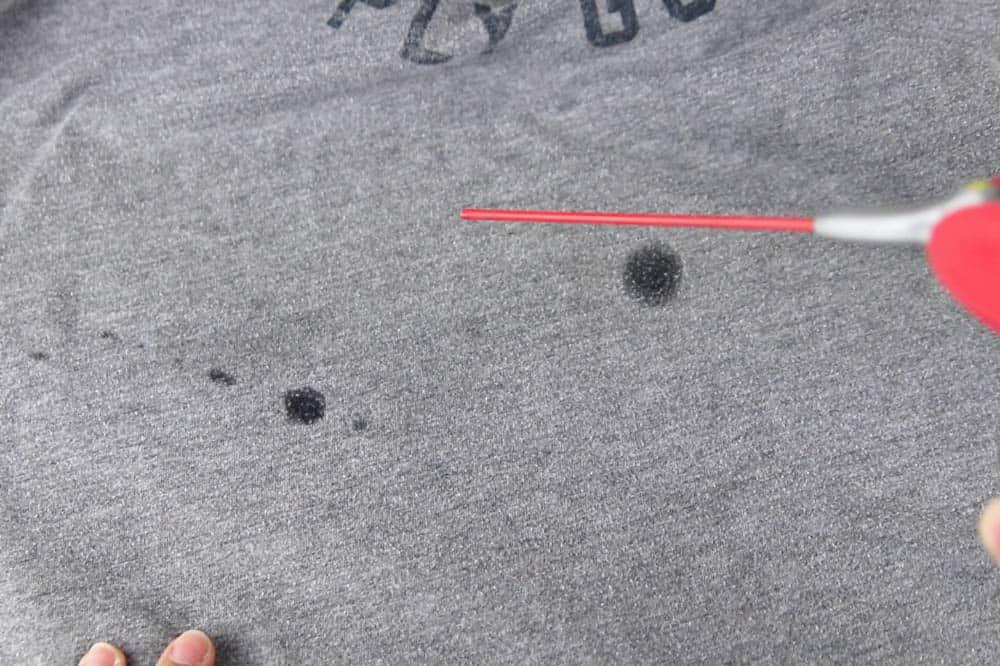gun: (623, 247, 684, 310), (284, 386, 327, 429), (210, 356, 243, 389)
